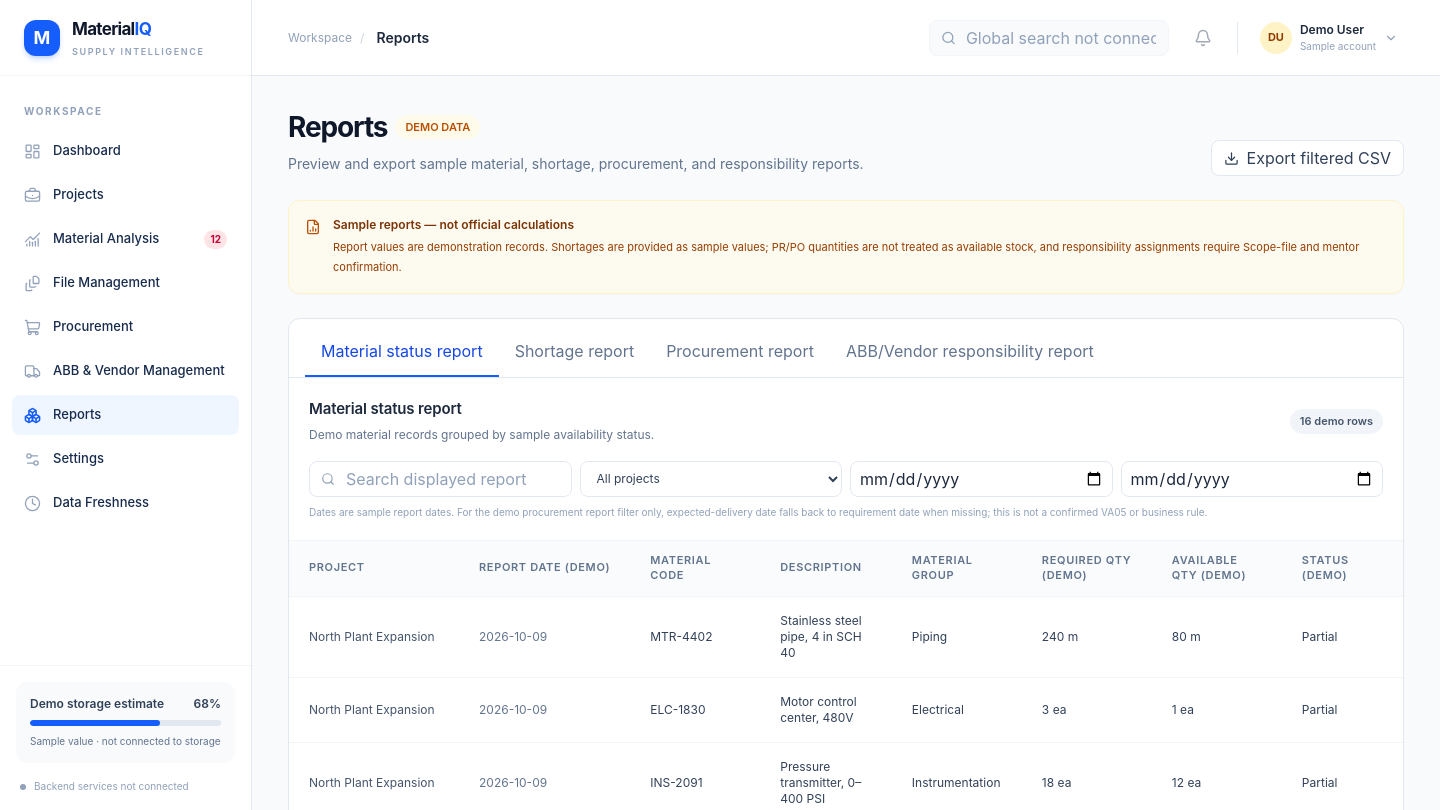
Test: MaterialIQ application › renders report types, applies project and date filters, and exports DEMO rows
The width and height of the screenshot is (1440, 810).
Select "North Plant Expansion" in the dropdown named "Filter report by project" at coordinates (711, 478), box [580, 460, 842, 496]
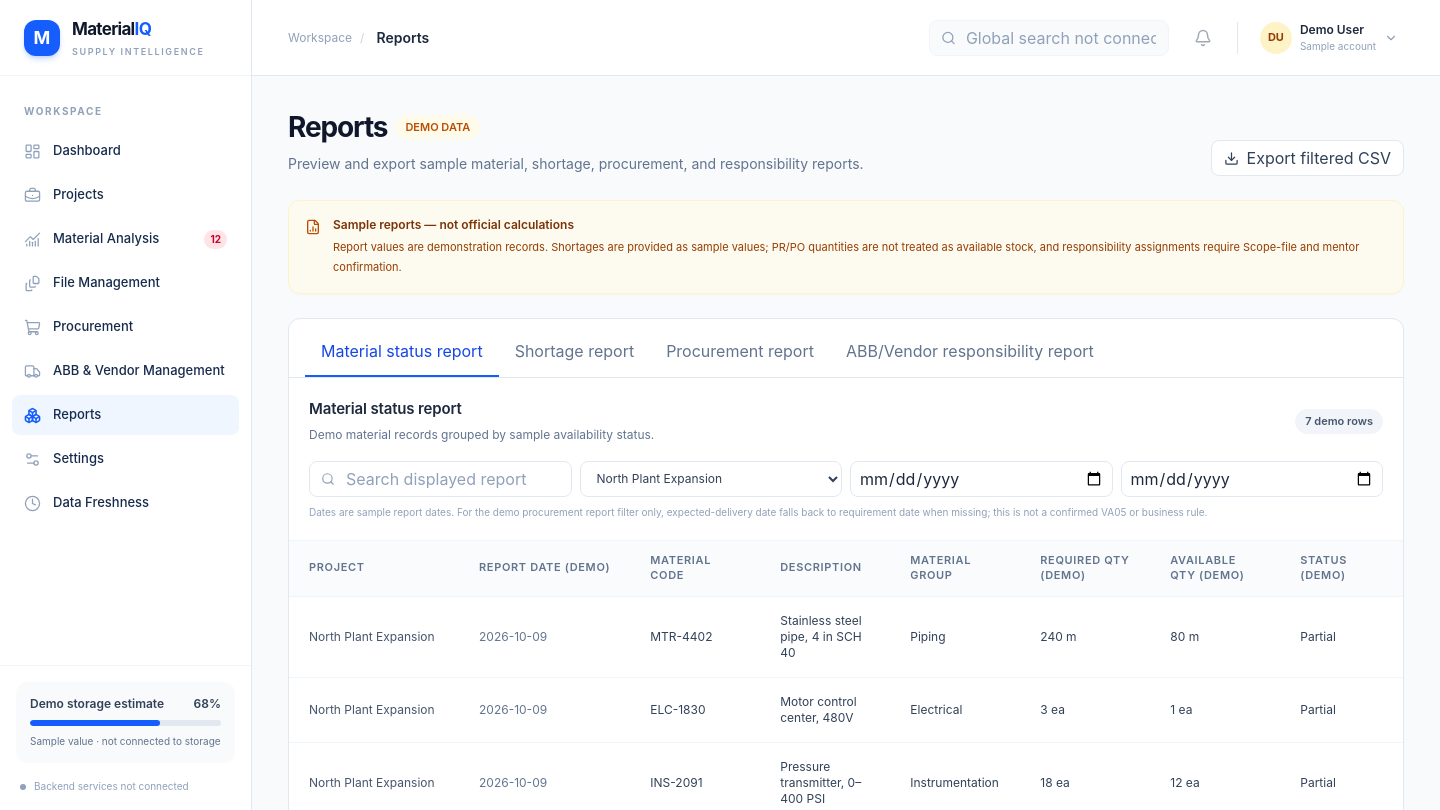
Type "2026-10-09" into the date field named "Report date from".
click(981, 478); type("2026-10-09")  # box [850, 460, 1112, 496]
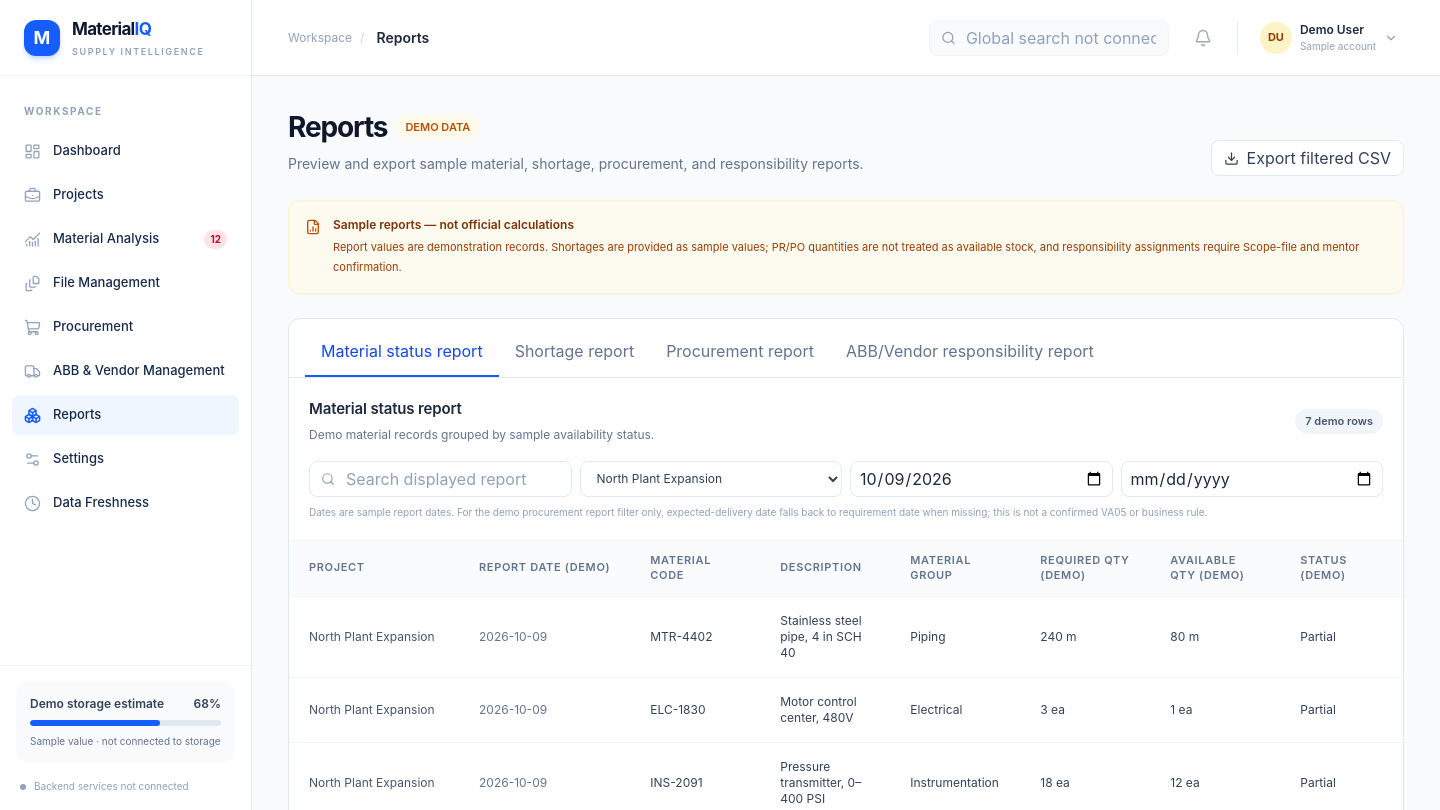
Type "2026-10-09" into the date field named "Report date to".
click(1252, 478); type("2026-10-09")  # box [1120, 460, 1383, 496]
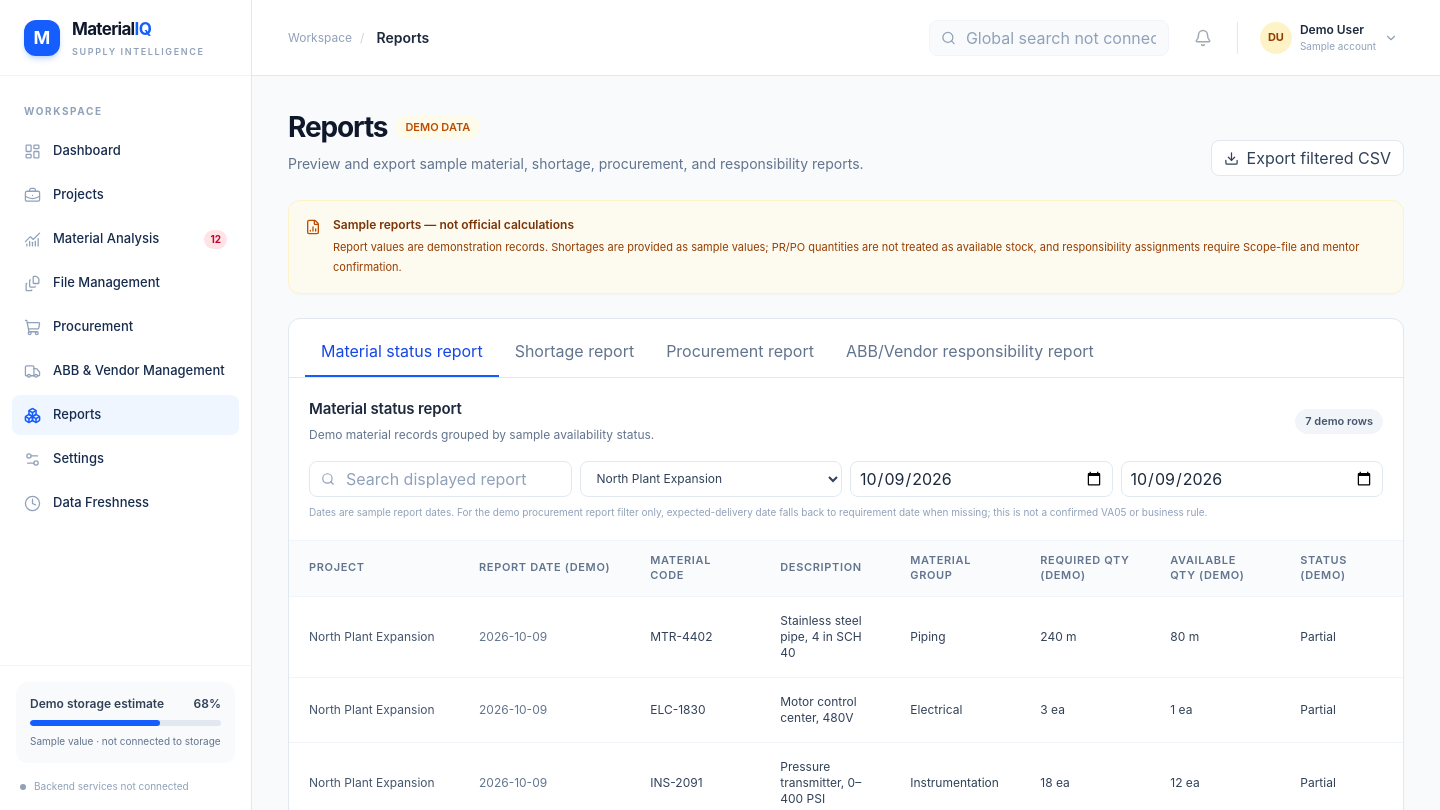
expect the row "MTR-4402" is shown: met, box [289, 596, 1403, 677]
Click the tab "Shortage report".
click(574, 352)  # box [499, 327, 650, 377]
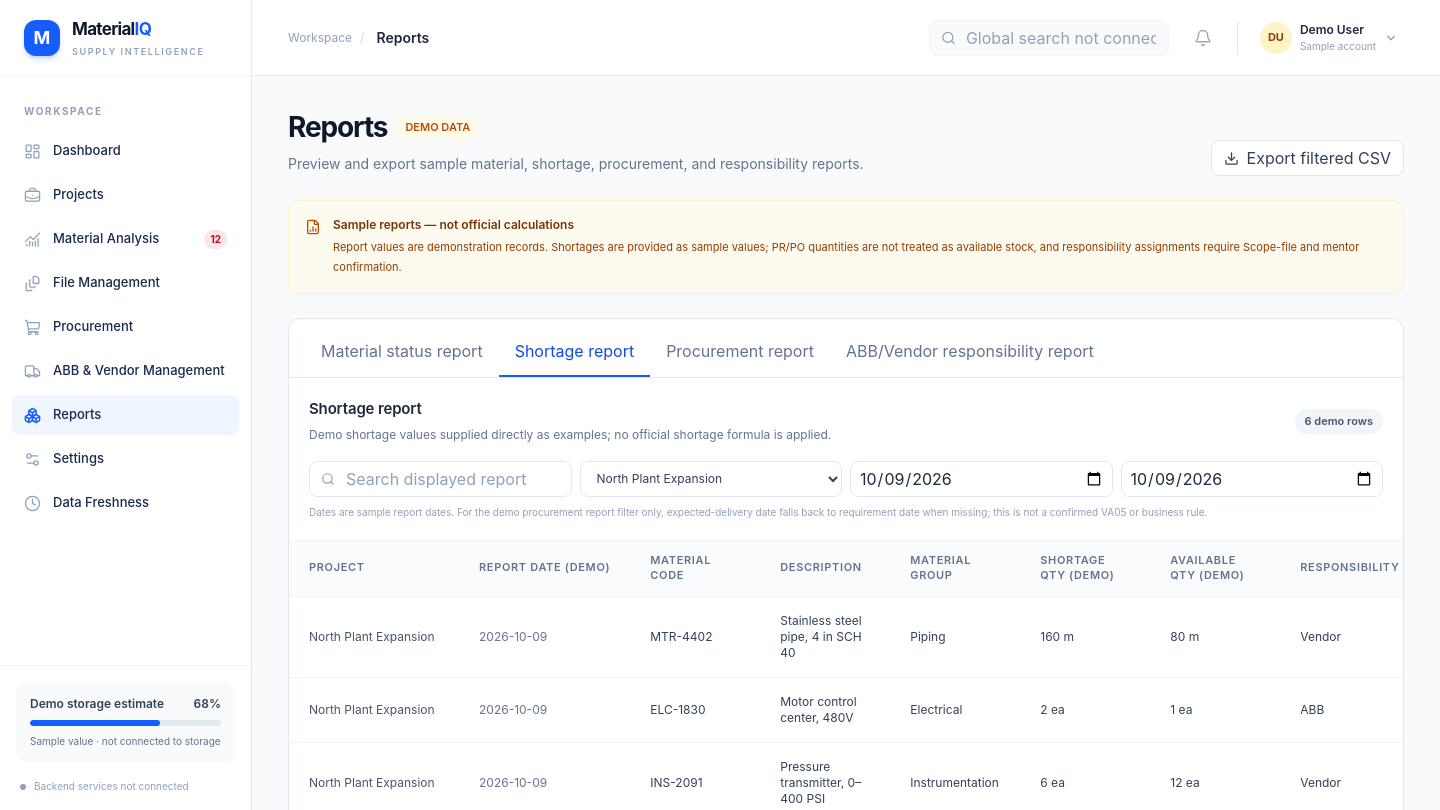
expect the row "MTR-4402" is shown: met, box [289, 596, 1403, 677]
expect the text "no official shortage formula" is shown: met, box [309, 426, 831, 442]
